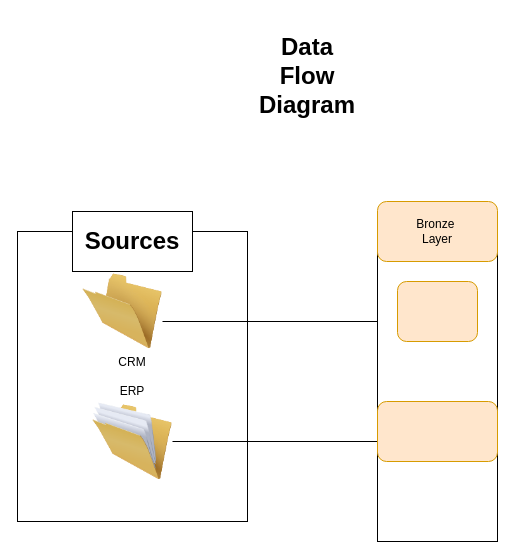
Image size: 515x559. Some labels were removed from this diagram. The centre of each missing label's shape, as x and y in pixels:
crm_sales_det crm_cust_info crm_prd_info: (437,311)
erp_cust_az12 erp_loc_a101 erp_px_cat_g1v2: (437,431)
